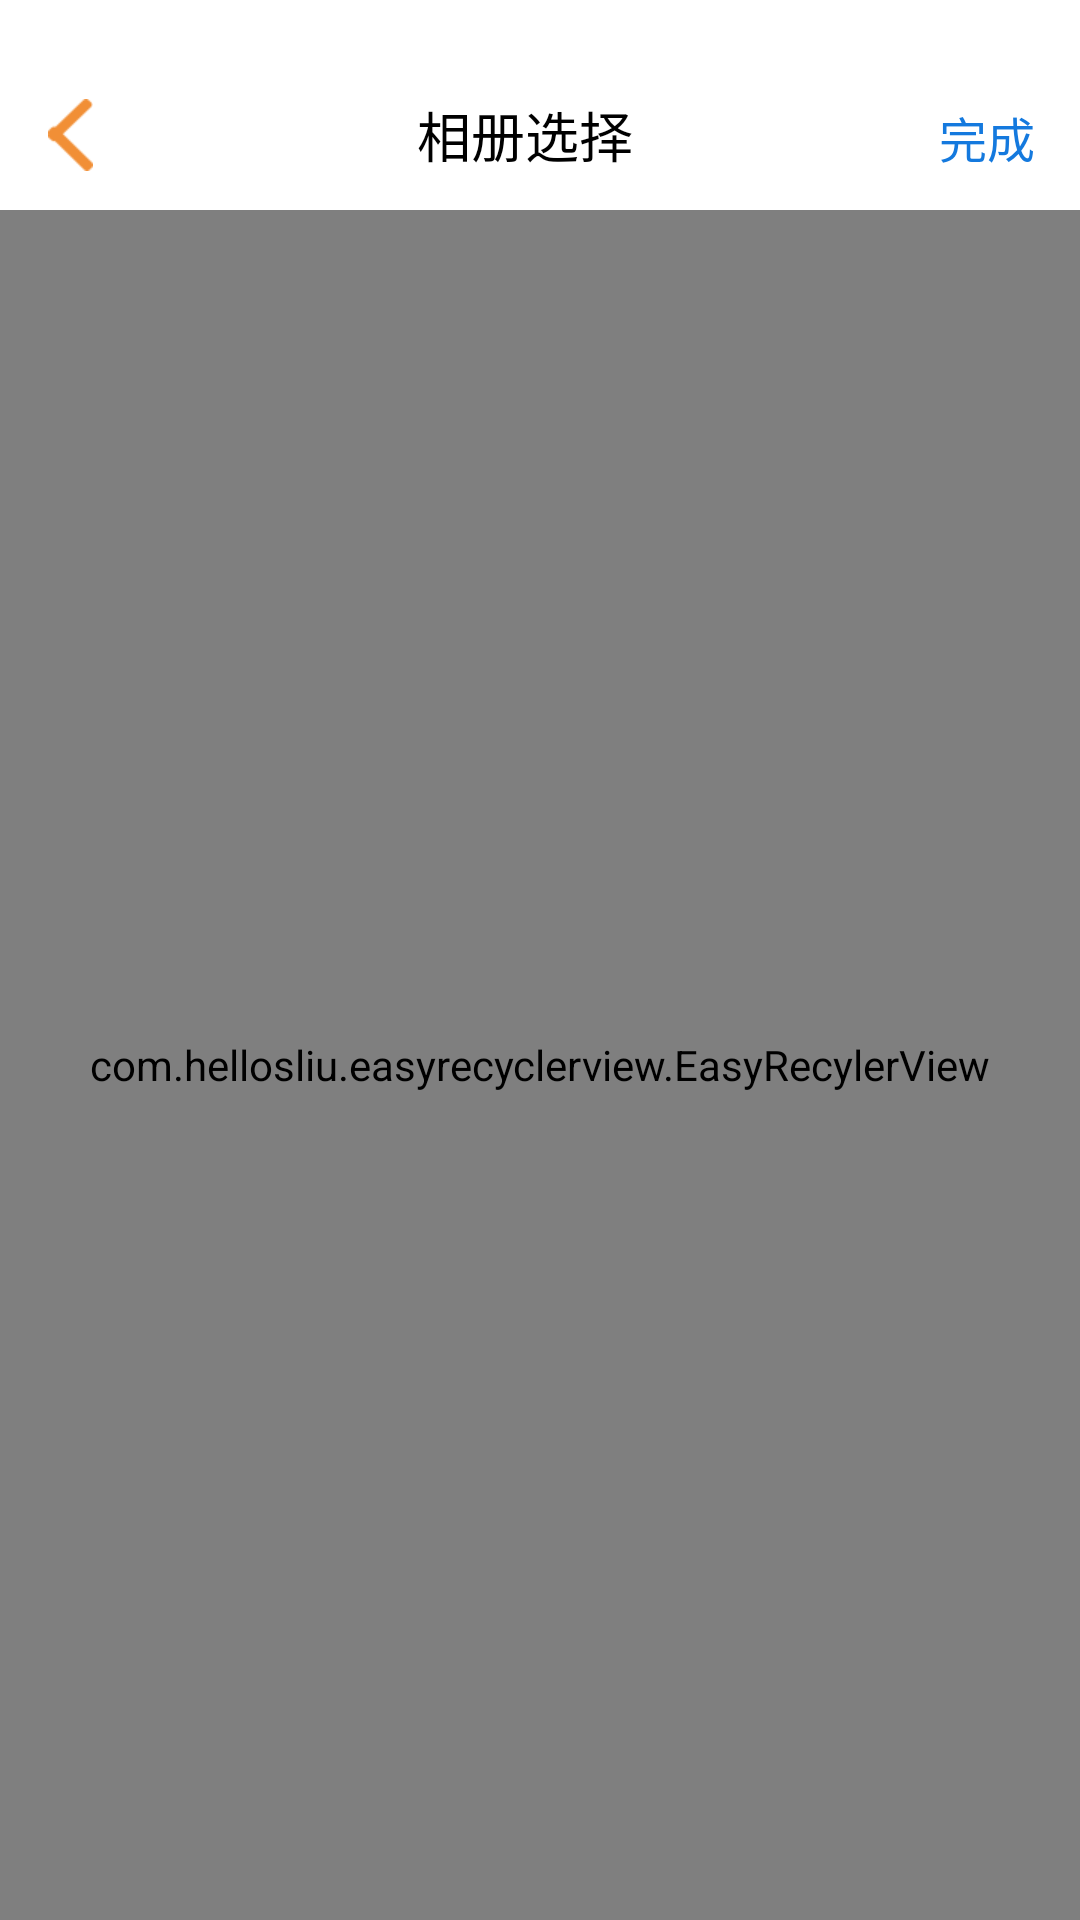

Icons on this 1080*1920 Android screen, each with the point to tap as point (x, y):
back: point (70, 135)
